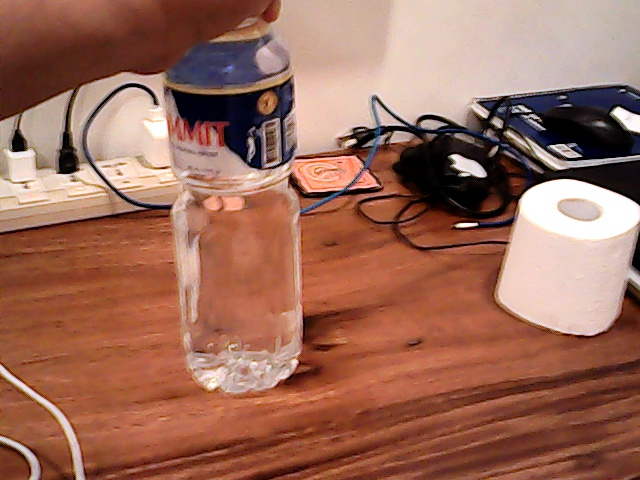Summit Water: (157, 6, 317, 396)
